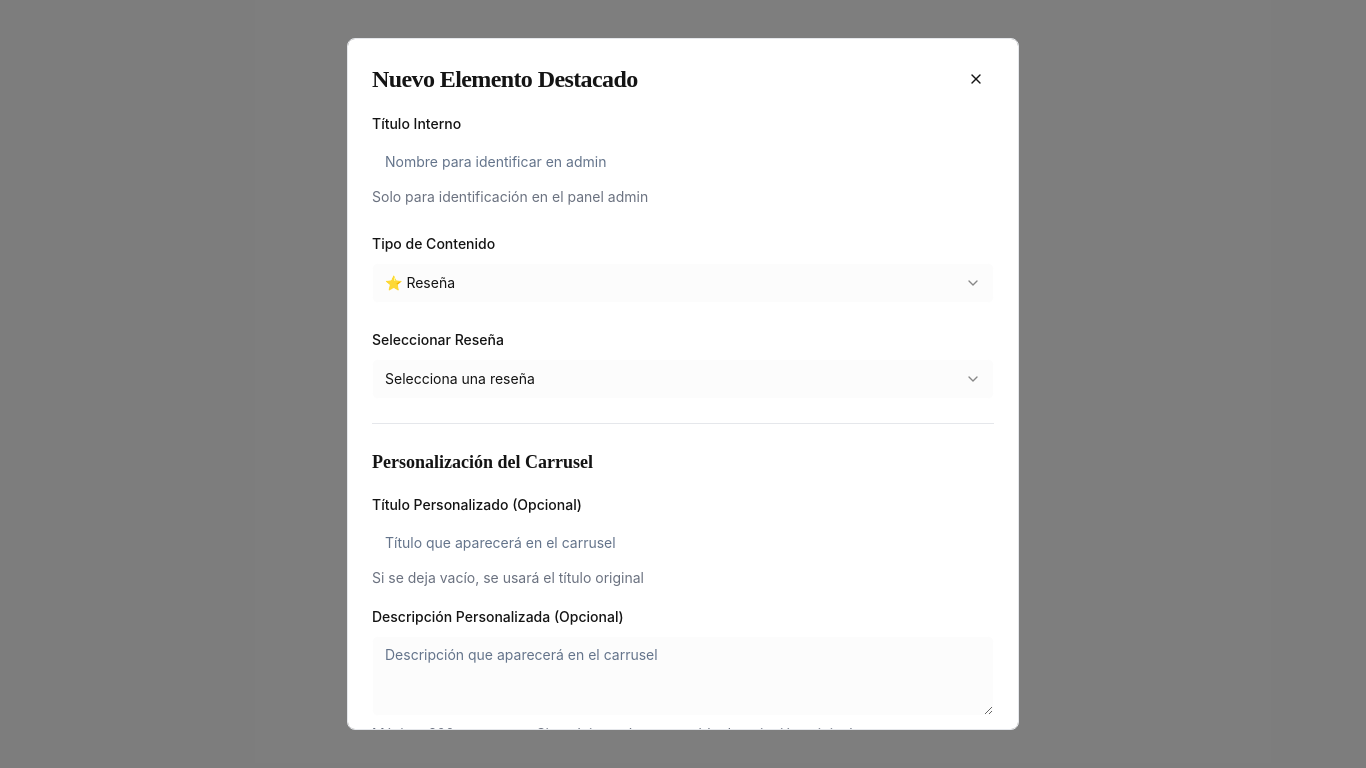
Test case: Featured Items Form › Preview Functionality › should hide preview when close preview is clicked
Note: Fill required fields first
Type "Test Item" into the field labelled "Título Interno" at (683, 161), box [372,143,994,179]
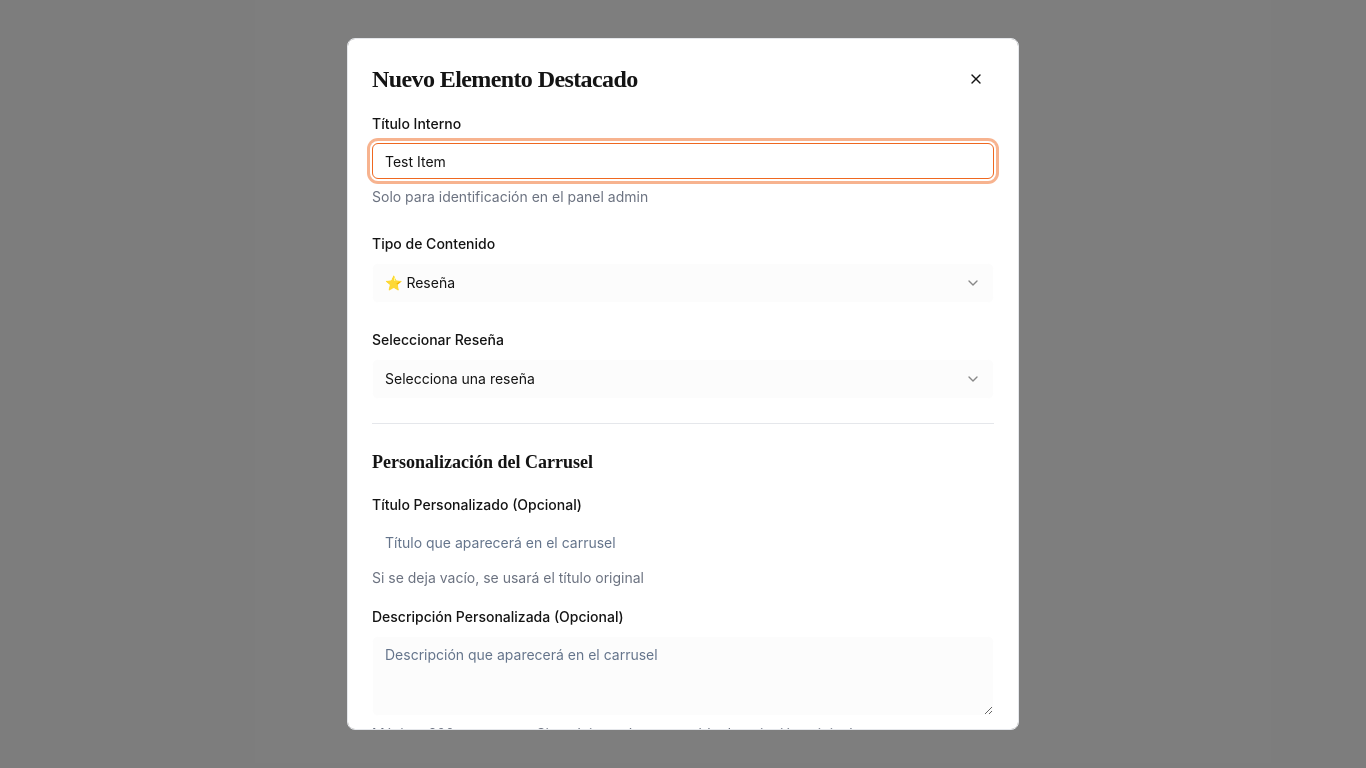
Note: Change type to collection (doesn't require reference)
Click the dropdown named "tipo" at (420, 283), box [372,263,994,303]
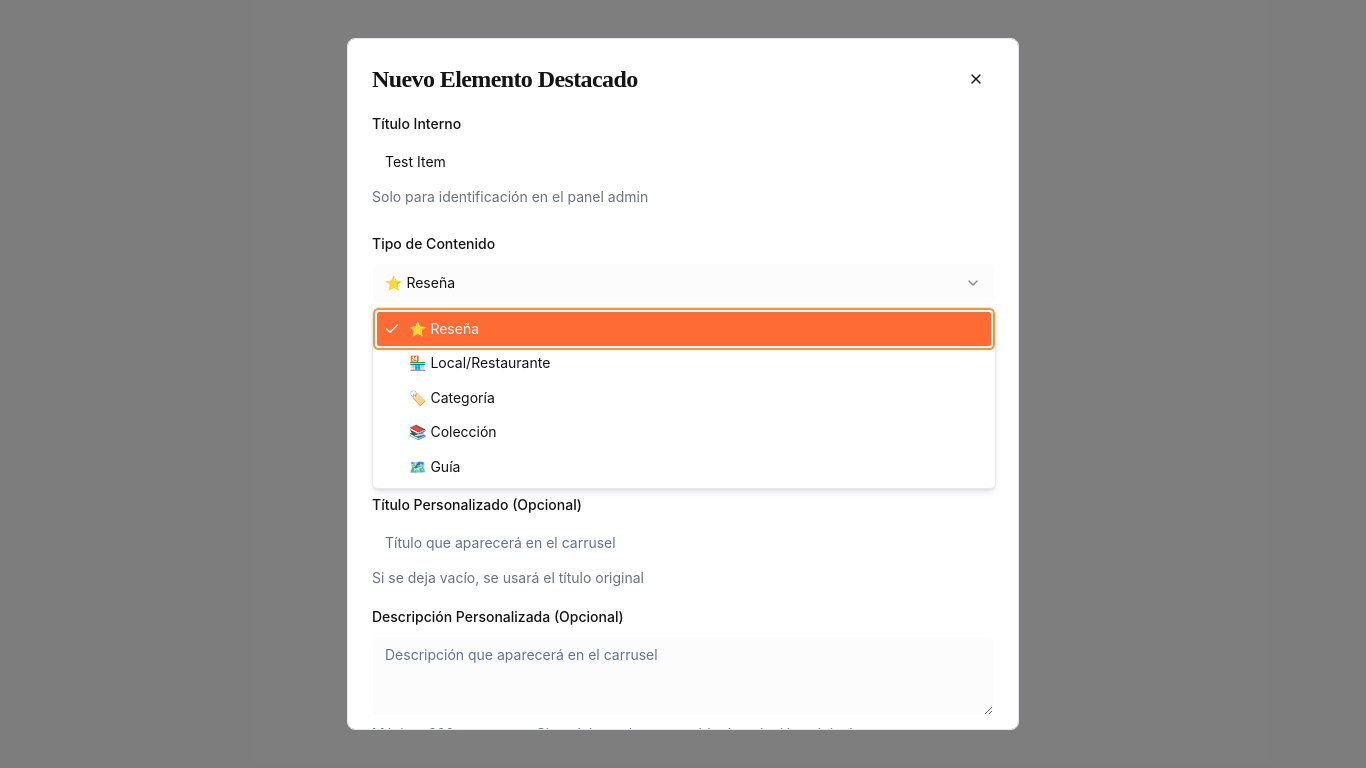
Click the option "📚 Colección" at (453, 432), box [409,423,497,440]
(page scrolled)
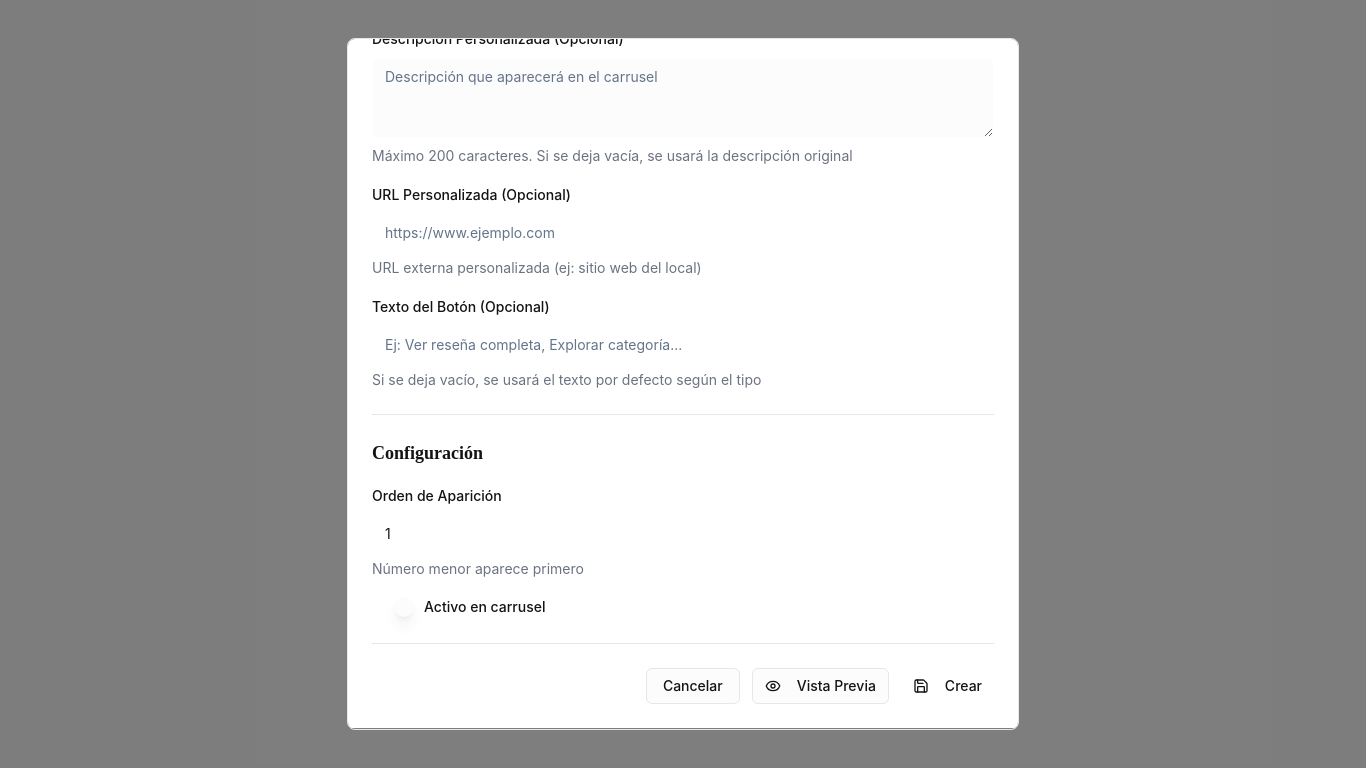
Note: Open preview
Click the button "Vista Previa" at (820, 686), box [752,668,889,704]
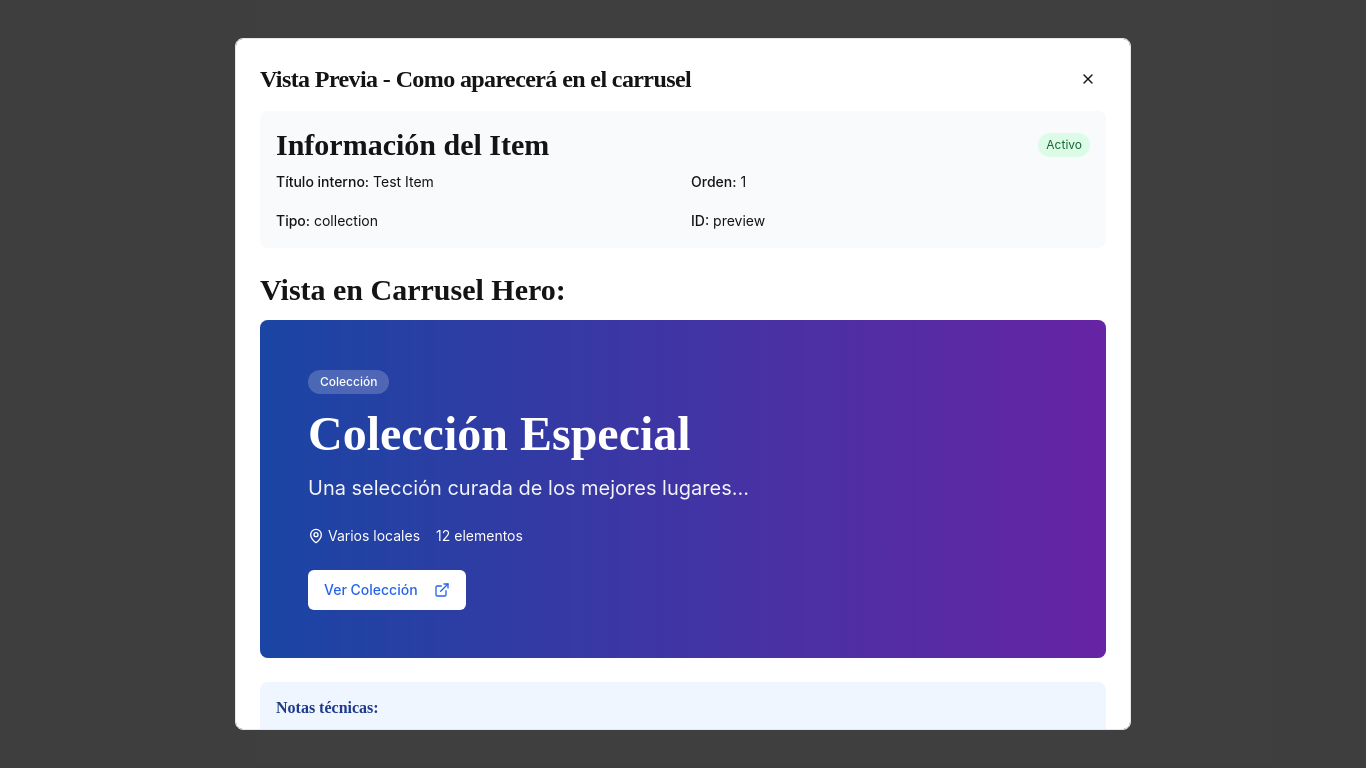
Note: Close preview
Click the button named "cerrar vista previa" at (1088, 79), box [1070,63,1106,95]
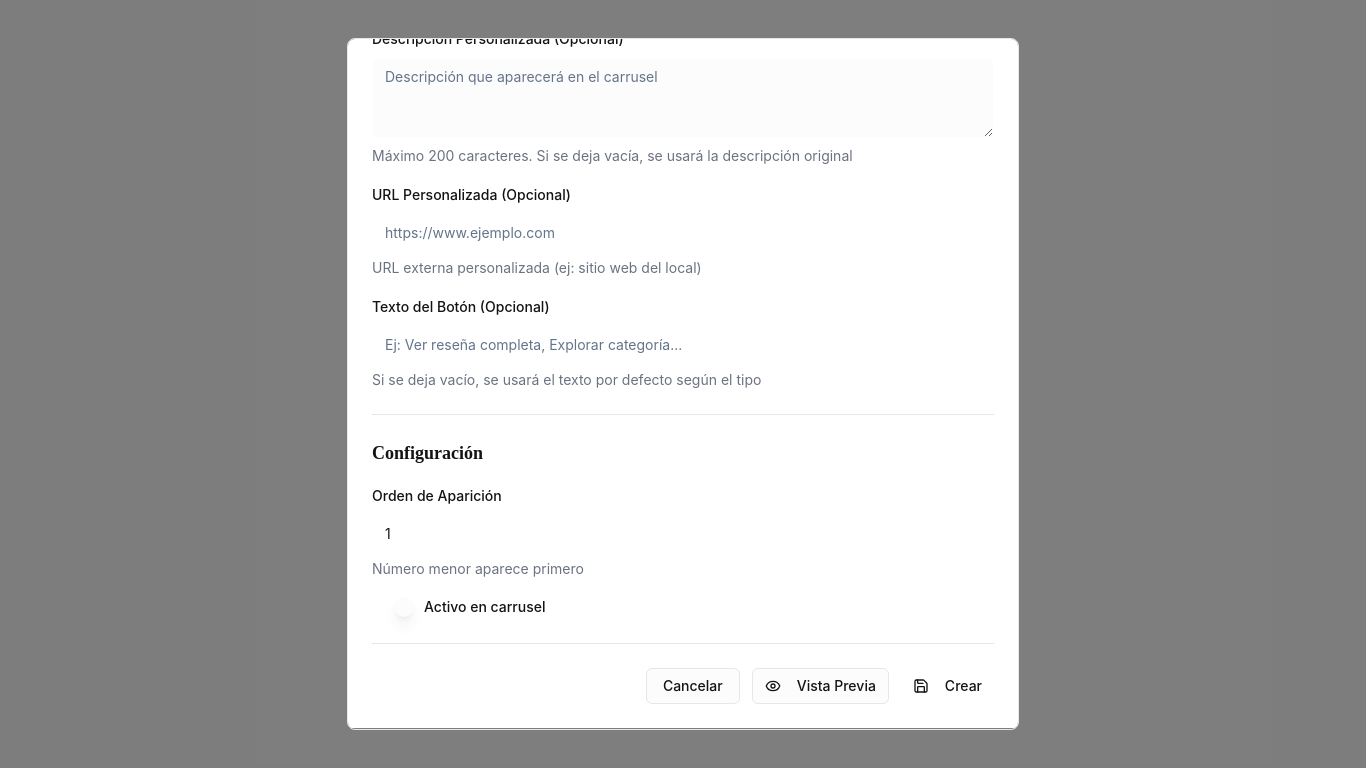
Check: the element with test id "featured-item-preview" is gone
